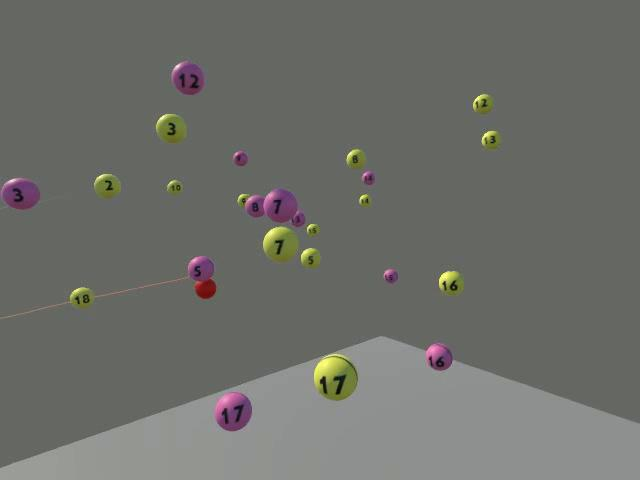ball_02_yellow: (93, 173, 121, 198)
ball_03_pink: (1, 177, 40, 210)
ball_03_yellow: (155, 112, 186, 142)
ball_05_pink: (187, 254, 214, 281)
ball_05_yellow: (300, 247, 320, 268)
ball_07_pink: (263, 188, 297, 222)
ball_07_yellow: (262, 226, 298, 262)
ball_08_pink: (245, 194, 265, 217)
ball_08_yellow: (346, 149, 367, 169)
ball_09_pink: (232, 150, 247, 166)
ball_10_yellow: (166, 179, 183, 196)
ball_12_pink: (171, 61, 204, 95)
ball_12_yellow: (472, 93, 494, 114)
ball_13_pink: (290, 210, 305, 226)
ball_13_yellow: (482, 131, 501, 149)
ball_14_pink: (361, 170, 375, 185)
ball_14_yellow: (359, 194, 372, 208)
ball_15_pink: (383, 269, 398, 284)
ball_15_yellow: (306, 223, 319, 236)
ball_16_pink: (425, 343, 453, 371)
ball_16_yellow: (438, 270, 463, 295)
ball_17_pink: (214, 391, 251, 431)
ball_17_yellow: (313, 354, 357, 400)
ball_18_yellow: (70, 287, 94, 309)
ball_unknown: (236, 193, 250, 207)
user_cursor: (194, 278, 216, 298)
